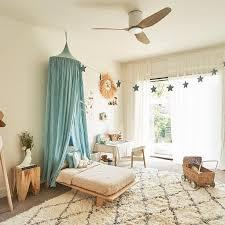bed: (43, 144, 144, 207)
fan: (96, 8, 175, 45)
table: (94, 138, 150, 167), (12, 164, 42, 200)
